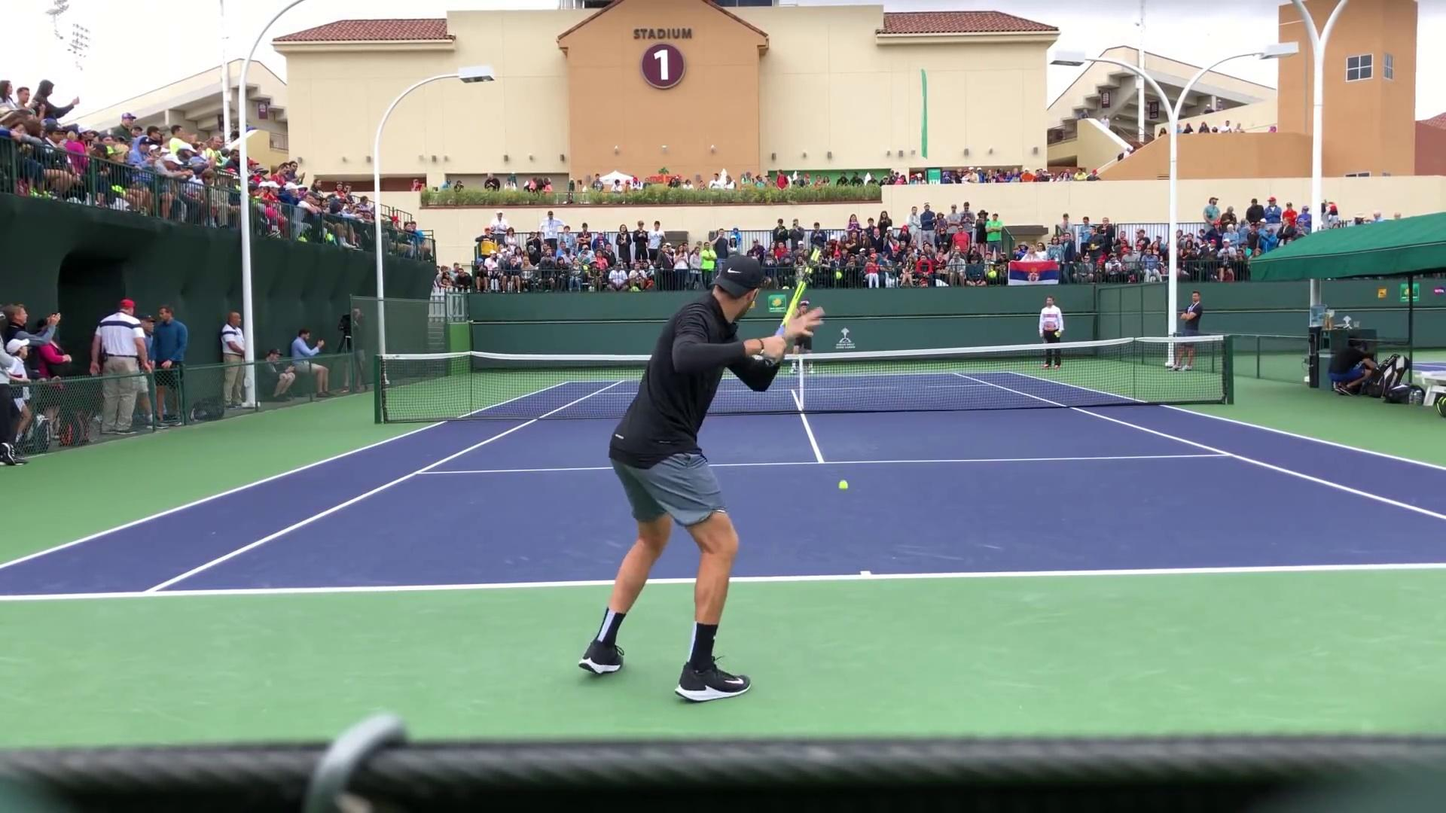ball: (837, 479, 850, 490)
